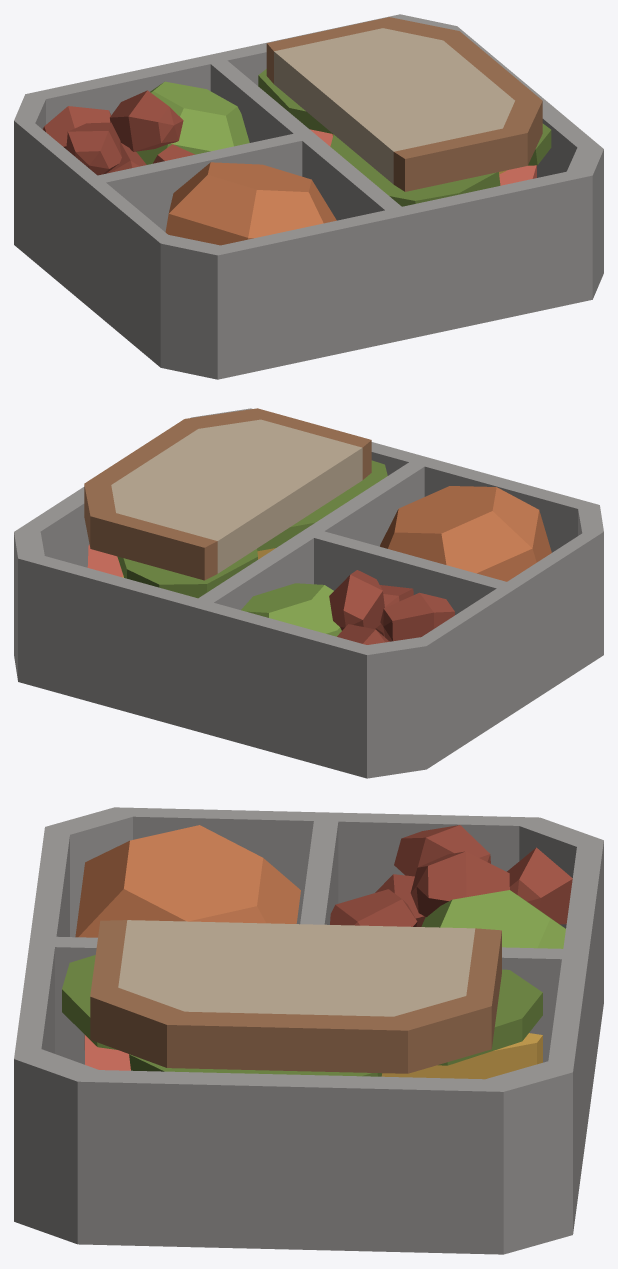
The picture shows the model from 3 angles, top to bottom: view 1: azimuth 30°, elevation 25°; view 2: azimuth 150°, elevation 25°; view 3: azimuth 270°, elevation 25°; orthographic projection. The views are drawn at different scales.
Visible parts, largest first — view 1: huitugou_2200_2934, huitugou_2200_2935; view 2: huitugou_2200_2934, huitugou_2200_2935; view 3: huitugou_2200_2934, huitugou_2200_2935.
Boxes of the visible parts, bbox=[...] form: huitugou_2200_2934: bbox=[14, 14, 603, 379]; huitugou_2200_2935: bbox=[42, 17, 551, 245]; huitugou_2200_2934: bbox=[14, 408, 603, 778]; huitugou_2200_2935: bbox=[84, 408, 551, 644]; huitugou_2200_2934: bbox=[14, 807, 603, 1254]; huitugou_2200_2935: bbox=[62, 825, 572, 1079].
Bounding box in the file's own units: 45.63 × 15.12 × 39.98.
